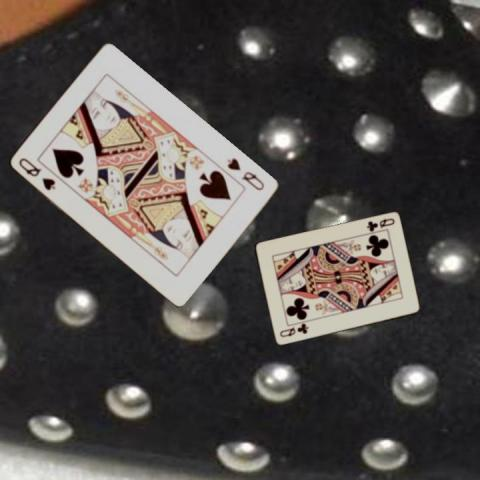Qc: (277, 321, 310, 339), (363, 216, 396, 234)
Qs: (224, 154, 265, 192), (15, 155, 56, 192)
